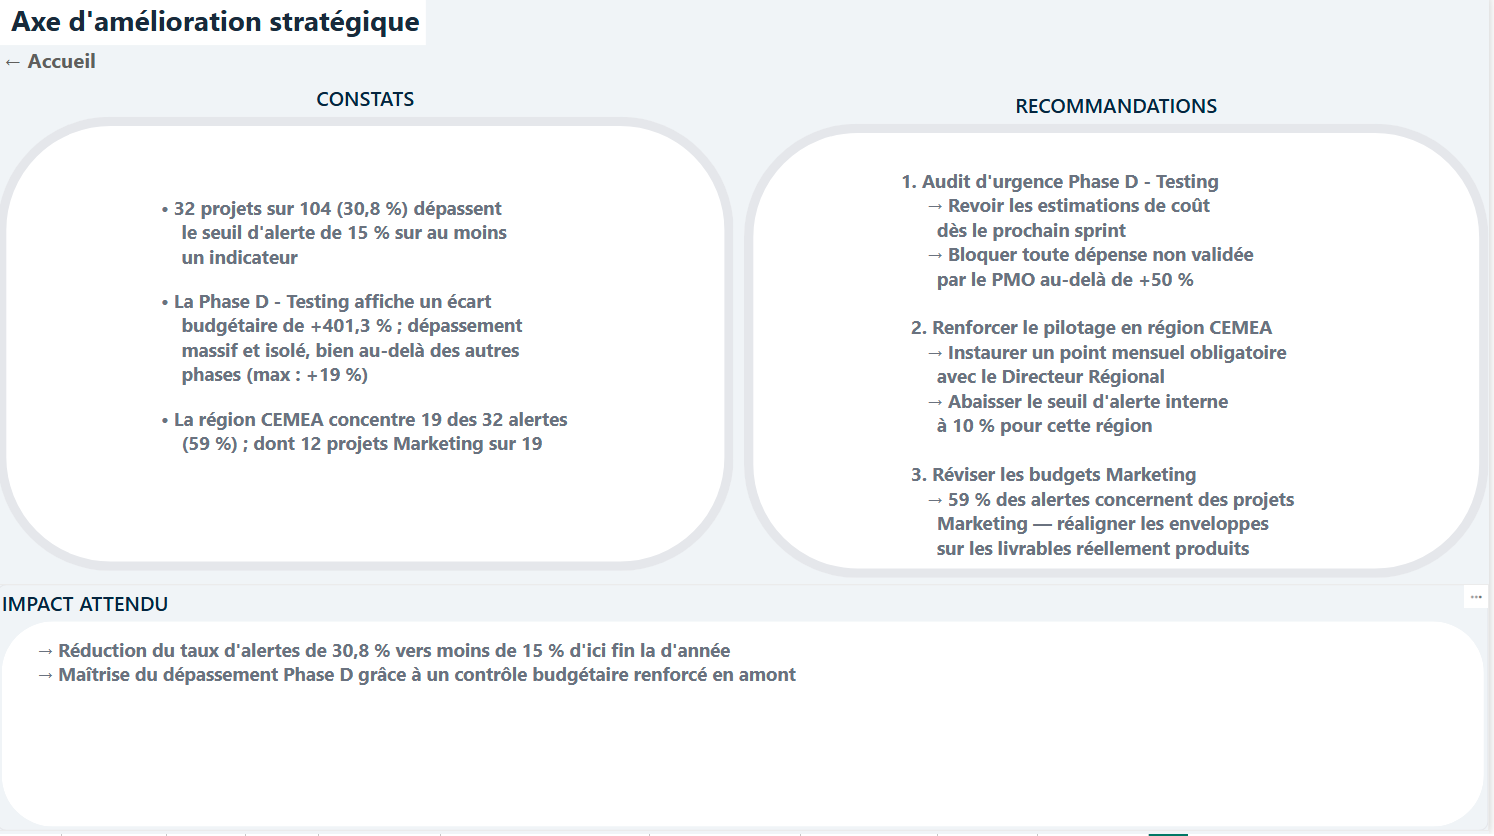

Layout of this report page (visuals, bound fields, positions):
{"tool":"powerbi","page":{"name":" Axe d'amélioration stratégique","canvas":[1280,720],"ordinal":5},"visuals":[{"type":"textbox","box":[0,0,367.8,43.3],"z":0},{"type":"textbox","box":[28.9,545.6,662.2,55.6],"z":0,"group":"g3"},{"type":"group","id":"g1","title":"Groupe 2","box":[0,76.7,632.2,417.8],"z":1000},{"type":"group","id":"g2","title":"Groupe 2","box":[641.1,82.2,638.9,417.8],"z":2000},{"type":"shape","title":"IMPACT ATTENDU","box":[0,505.6,1280,212.2],"z":3000},{"type":"group","id":"g3","title":"Groupe 4","box":[28.9,545.6,662.2,55.6],"z":4000},{"type":"actionButton","title":"Accueil","box":[0,33.3,91.1,43.3],"z":5000},{"type":"shape","title":"CONSTATS","box":[0,76.7,632.2,417.8],"z":5000,"group":"g1"},{"type":"shape","title":"RECOMMANDATIONS","box":[641.1,82.2,638.9,417.8],"z":5000,"group":"g2"},{"type":"textbox","box":[771,143.4,437.8,351.1],"z":7000,"group":"g2"},{"type":"textbox","box":[135.6,166.8,361.1,236.7],"z":7000,"group":"g1"}]}

Visuals, with their boxes in screenshot pixels (x1, y1, x2, y2), scaled from the page's 1280x720 canvas onto the 1494x836 screenshot:
textbox: [0,0,429,50]
textbox: [34,634,807,698]
"Groupe 2" group: [0,89,738,574]
"Groupe 2" group: [748,95,1493,581]
"IMPACT ATTENDU" shape: [0,587,1493,833]
"Groupe 4" group: [34,634,807,698]
"Accueil" actionButton: [0,39,106,89]
"CONSTATS" shape: [0,89,738,574]
"RECOMMANDATIONS" shape: [748,95,1493,581]
textbox: [900,167,1411,574]
textbox: [158,194,580,469]
